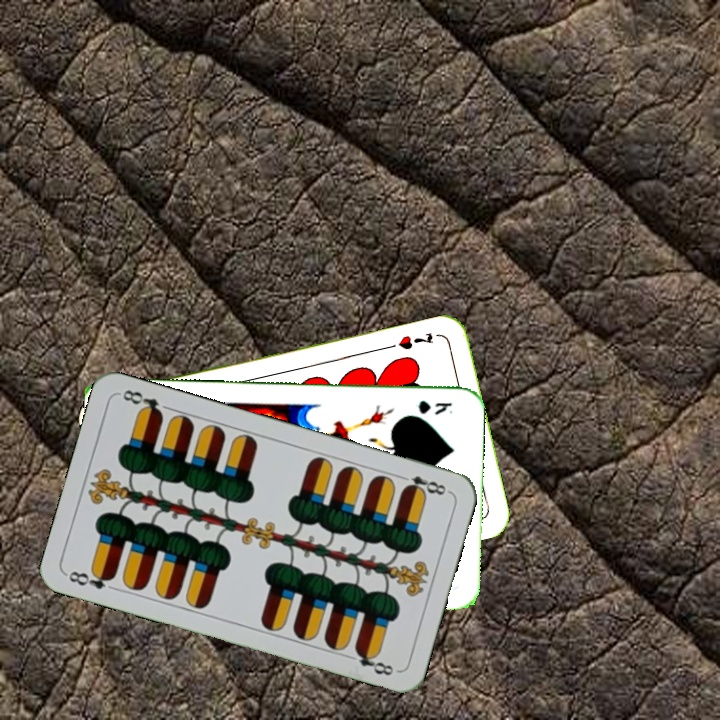E8: (63, 565, 121, 594), (394, 470, 452, 498)
GK: (414, 397, 455, 417)
H7: (394, 328, 436, 353)
